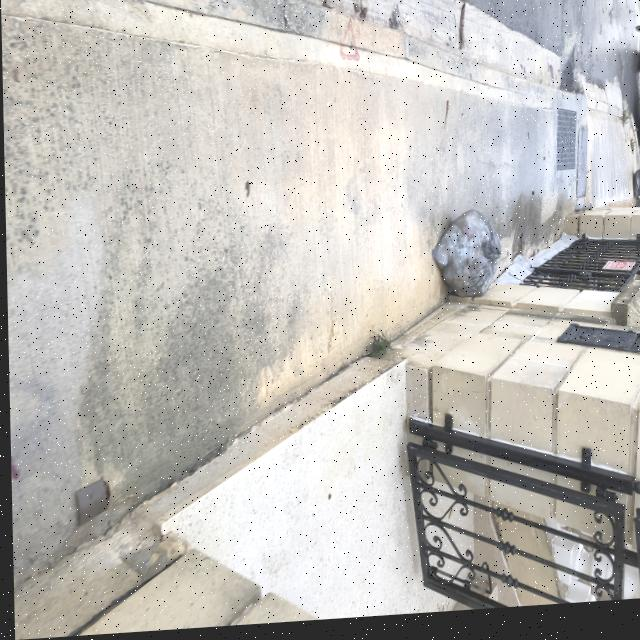Recycled Waste -Grey or Green Bag-: (429, 218, 500, 308)
